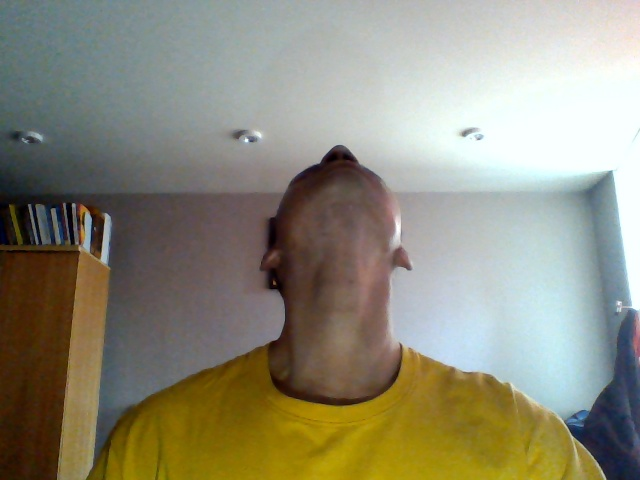no_mask: (269, 143, 408, 249)
